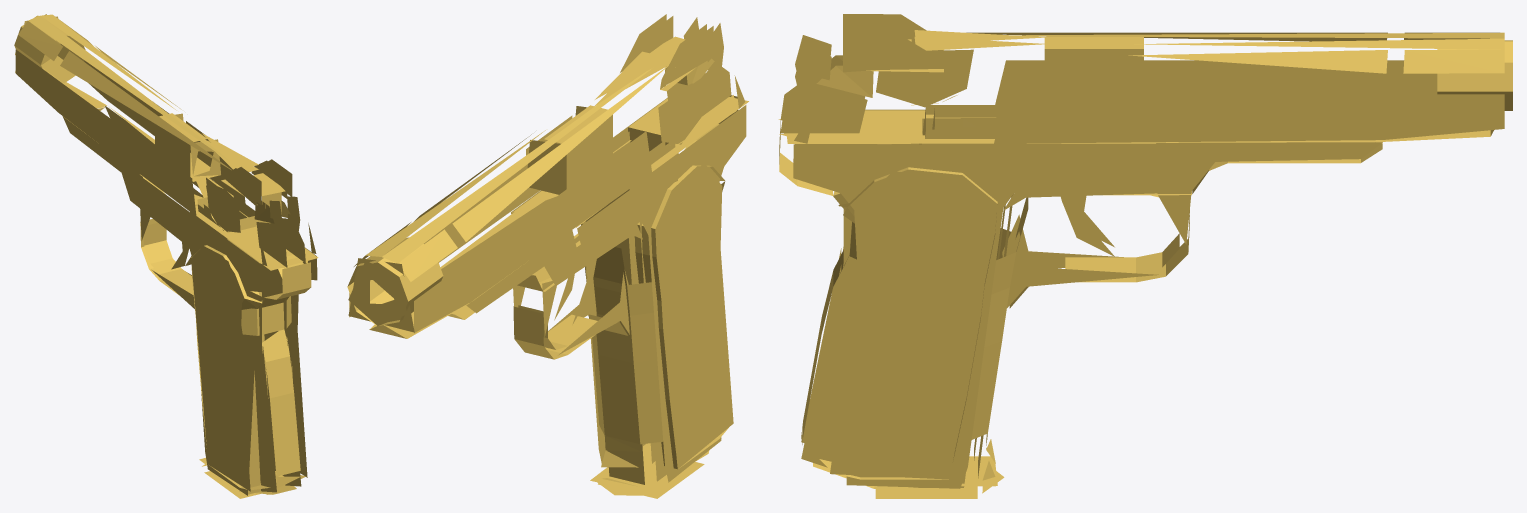
Rendered from charm_mst_pistol_2.glb.
The picture shows the model from 3 angles, left to right: view 1: azimuth 30°, elevation 25°; view 2: azimuth 150°, elevation 25°; view 3: azimuth 270°, elevation 25°; orthographic projection. The views are drawn at different scales.
Parts seen in each view (by area): view 1: p0_paint; view 2: p0_paint; view 3: p0_paint.
Boxes of the visible parts, x1,y1,x2,y2 form: p0_paint: (14,14,318,498); p0_paint: (347,14,748,498); p0_paint: (778,14,1512,498).
Size of the model in its own units: 0.0288 by 0.1528 by 0.2228.
